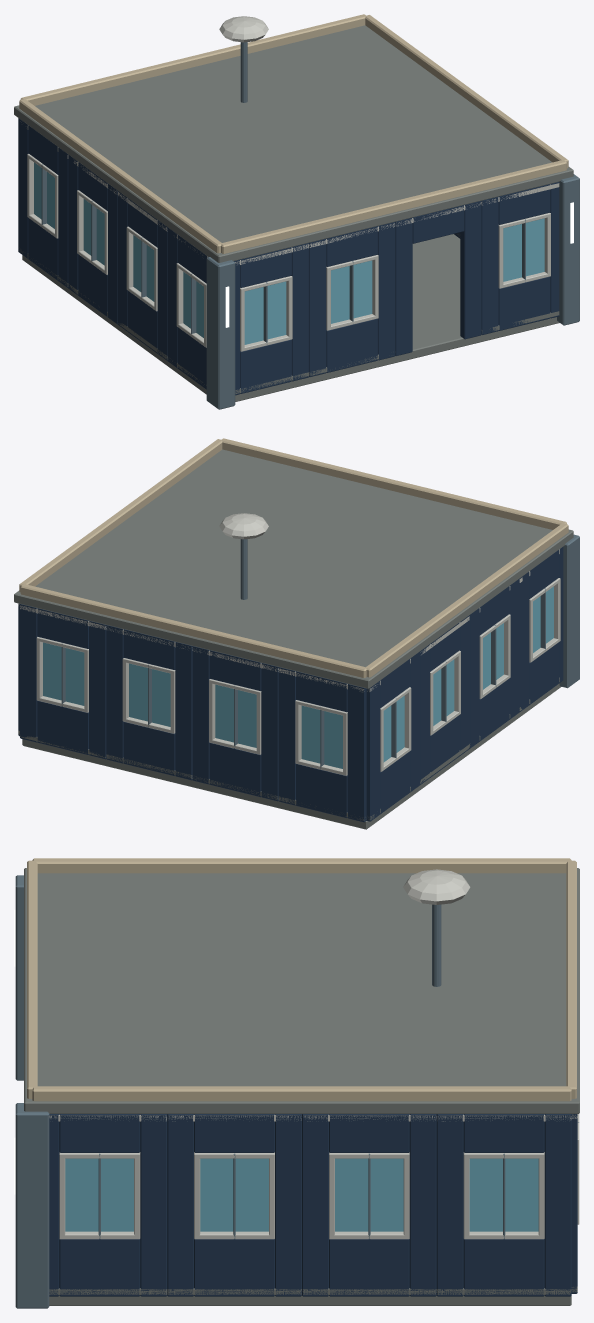
Rendered from architecture-outpost.lod0.glb.
3 renders of one model, top to bottom at view 1: azimuth 30°, elevation 25°; view 2: azimuth 150°, elevation 25°; view 3: azimuth 270°, elevation 25°, orthographic. The views are drawn at different scales.
Visible parts, largest first — view 1: architecture-outpost__body; view 2: architecture-outpost__body; view 3: architecture-outpost__body.
Boxes of the visible parts, x1,y1,x2,y2 form: architecture-outpost__body: [14, 14, 579, 409]; architecture-outpost__body: [14, 438, 579, 829]; architecture-outpost__body: [14, 858, 579, 1308].
Bounding box in the file's own units: 8.4 × 5.18 × 8.4.
